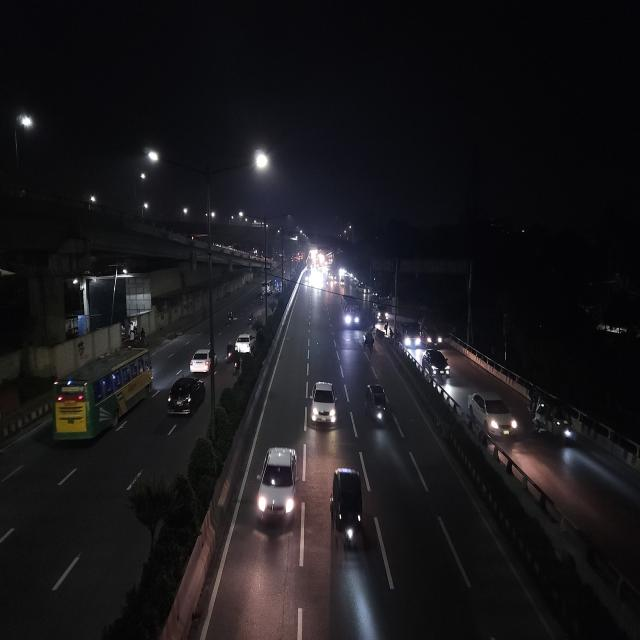bus: (50, 341, 156, 450), (338, 293, 362, 331)
car: (254, 444, 298, 535), (466, 389, 520, 442), (164, 372, 207, 422), (310, 379, 338, 432), (419, 348, 452, 380), (188, 342, 218, 374), (398, 320, 422, 351), (232, 331, 258, 357), (374, 305, 388, 323)
cng: (328, 464, 366, 555), (530, 389, 577, 447), (363, 380, 389, 431)
motorcycle: (231, 350, 243, 376), (225, 308, 237, 327), (247, 308, 256, 326)
pedestrian: (383, 320, 389, 337)
rickshaw: (362, 338, 376, 353)
